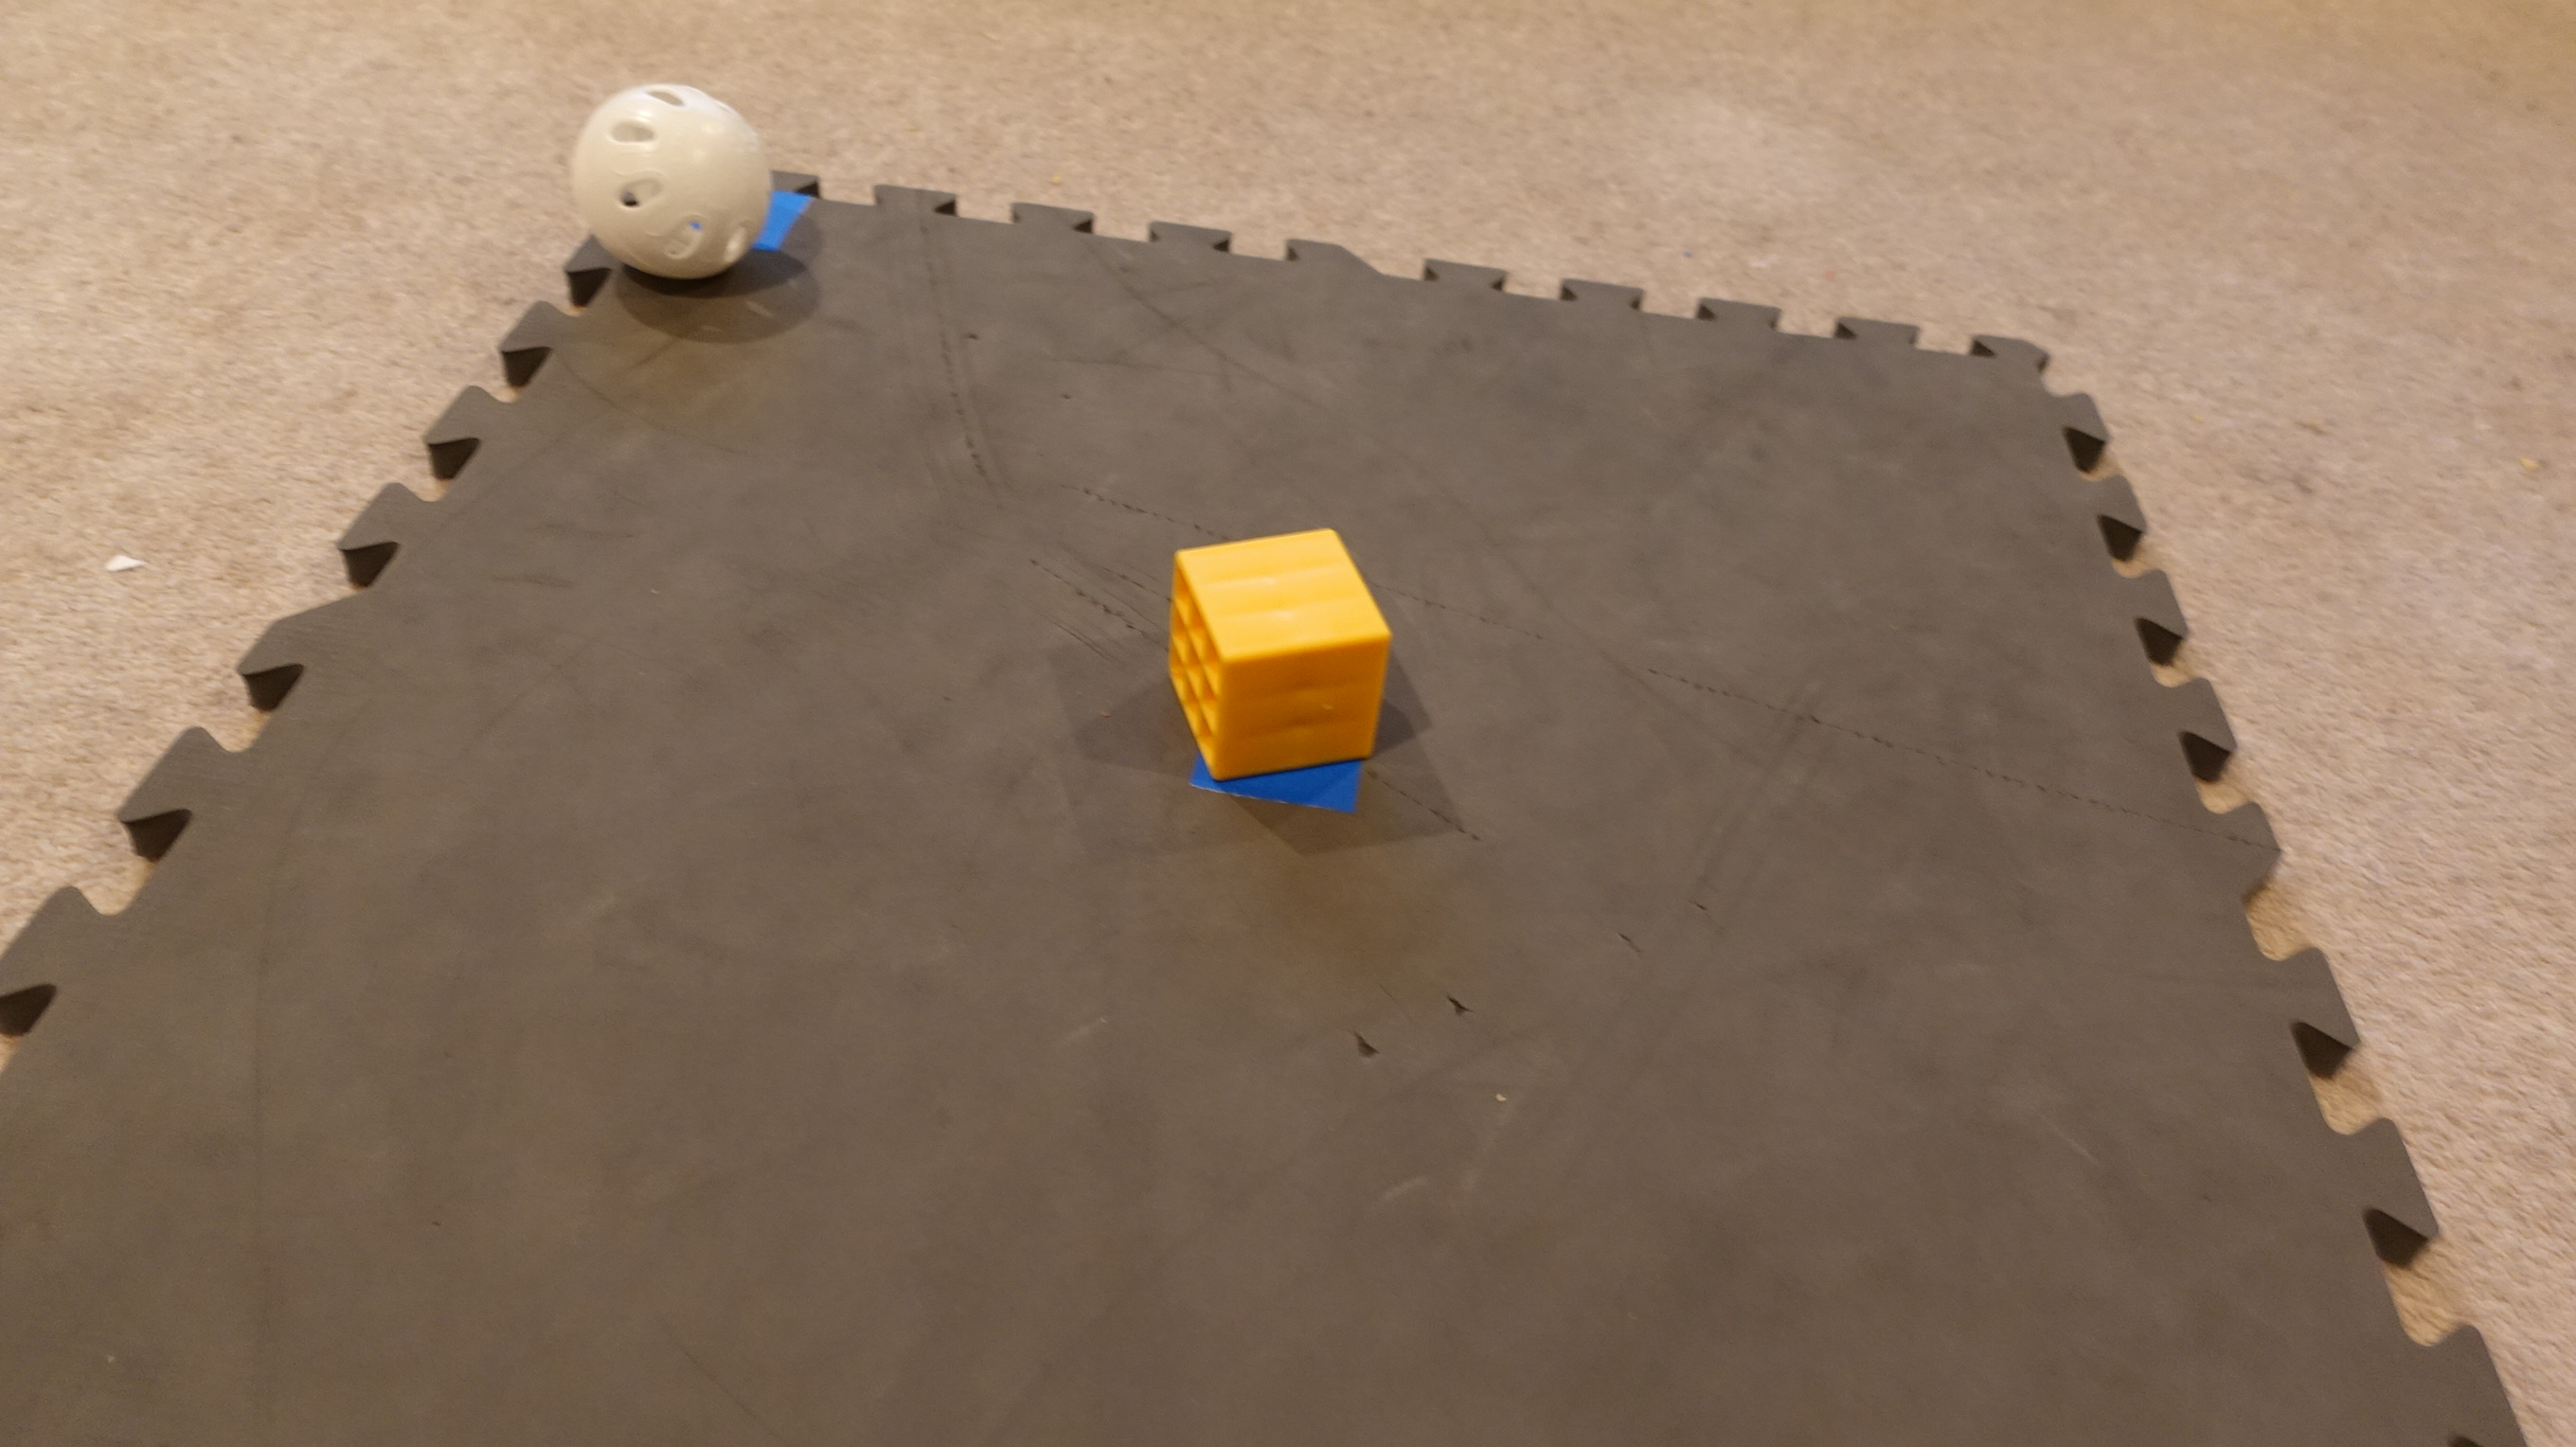gold: (1148, 517, 1417, 796)
silver: (571, 73, 780, 283)
